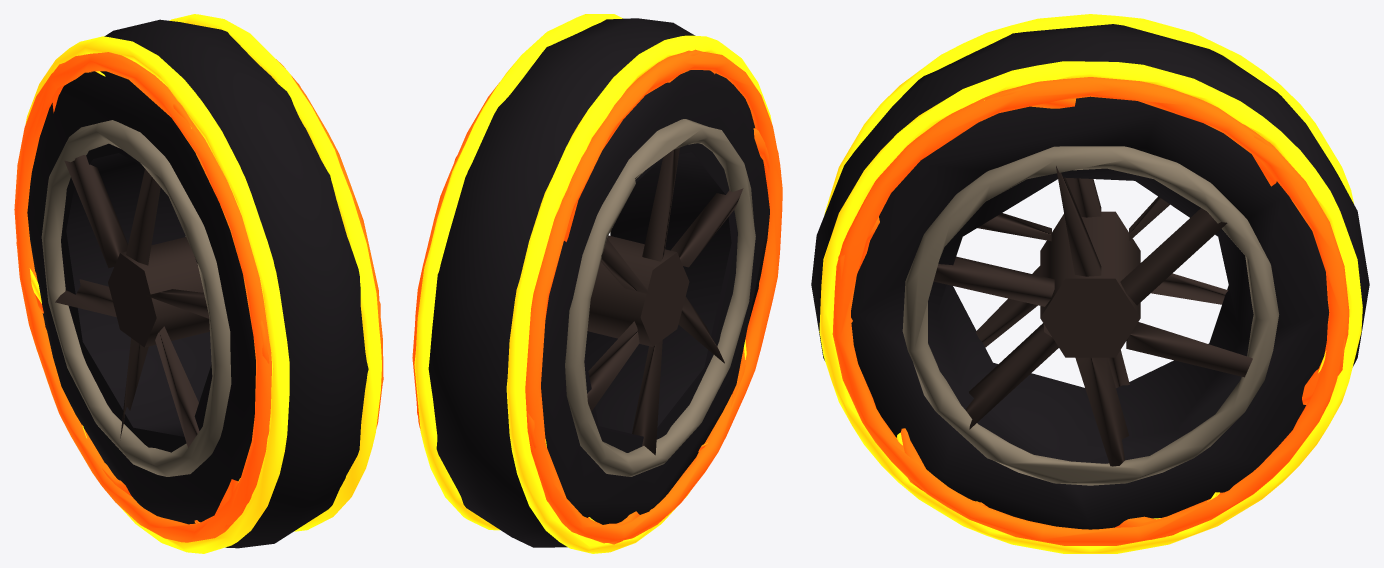
File: A037-FLAME_MOTO_Wheel_F_Part_01_0907_1f6faeb8_LOD.glb
The picture shows the model from 3 angles, left to right: view 1: azimuth 30°, elevation 25°; view 2: azimuth 150°, elevation 25°; view 3: azimuth 270°, elevation 25°; orthographic projection. The views are drawn at different scales.
Parts seen in each view (by area): view 1: FLAME_MOTO_Wheel_F_Part_01; view 2: FLAME_MOTO_Wheel_F_Part_01; view 3: FLAME_MOTO_Wheel_F_Part_01.
Boxes of the visible parts, left/top/right/bottom form: FLAME_MOTO_Wheel_F_Part_01: left=14, top=14, right=383, bottom=553; FLAME_MOTO_Wheel_F_Part_01: left=412, top=14, right=782, bottom=553; FLAME_MOTO_Wheel_F_Part_01: left=811, top=14, right=1369, bottom=553.
Size of the model in its own units: 0.1719 by 0.5568 by 0.5568.
